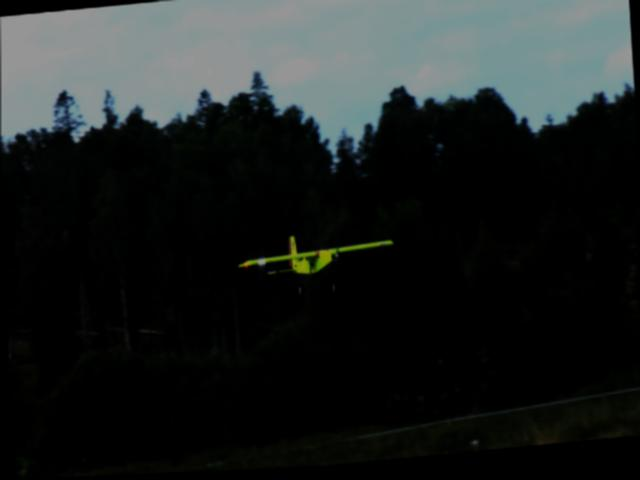plane: (236, 230, 396, 307)
